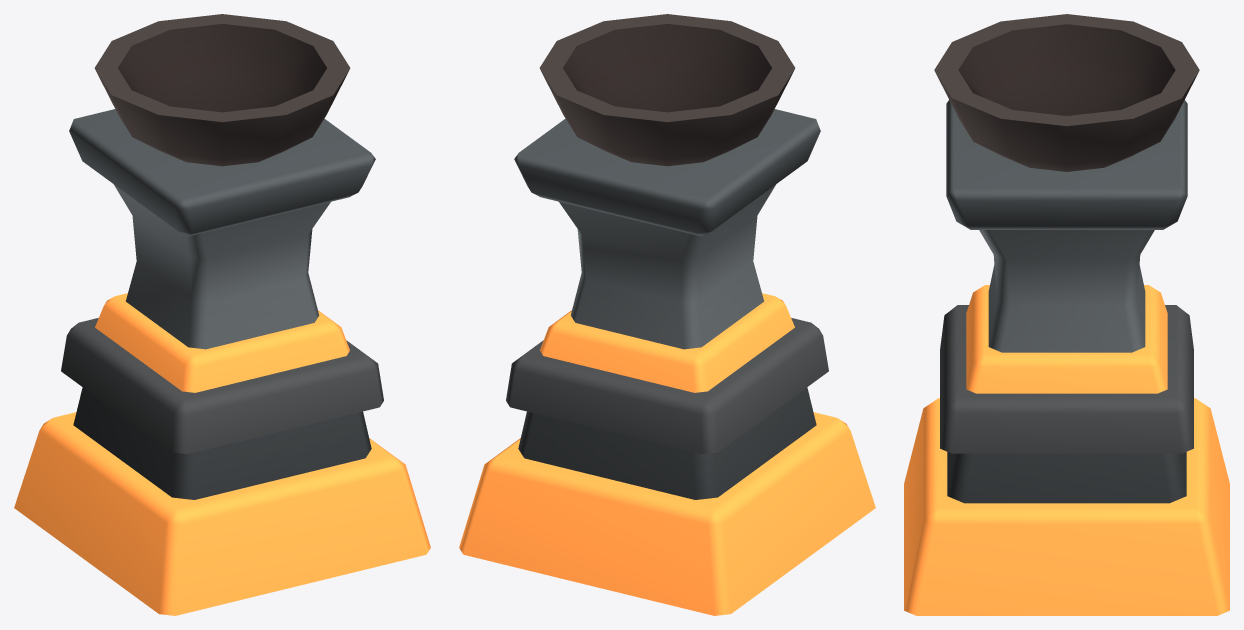
Rendered from pillar_012.glb.
3 renders of one model, left to right at view 1: azimuth 30°, elevation 25°; view 2: azimuth 150°, elevation 25°; view 3: azimuth 270°, elevation 25°, orthographic. The views are drawn at different scales.
Visible parts, largest first — view 1: pillar_012; view 2: pillar_012; view 3: pillar_012.
Boxes of the visible parts, x1=… form: pillar_012: x1=14, y1=14, x2=430, y2=615; pillar_012: x1=459, y1=14, x2=875, y2=615; pillar_012: x1=904, y1=14, x2=1229, y2=615.
Size of the model in its own units: 1.1 by 1.77 by 1.1.
2 materials, 2 textured.
